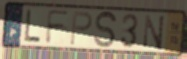3: (119, 13, 140, 50)
F: (44, 10, 71, 46)
L: (23, 8, 42, 45)
N: (142, 13, 166, 52)
P: (69, 9, 94, 47)
S: (93, 10, 118, 50)
